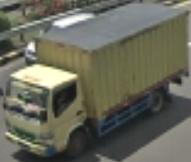truck: (1, 60, 95, 158)
